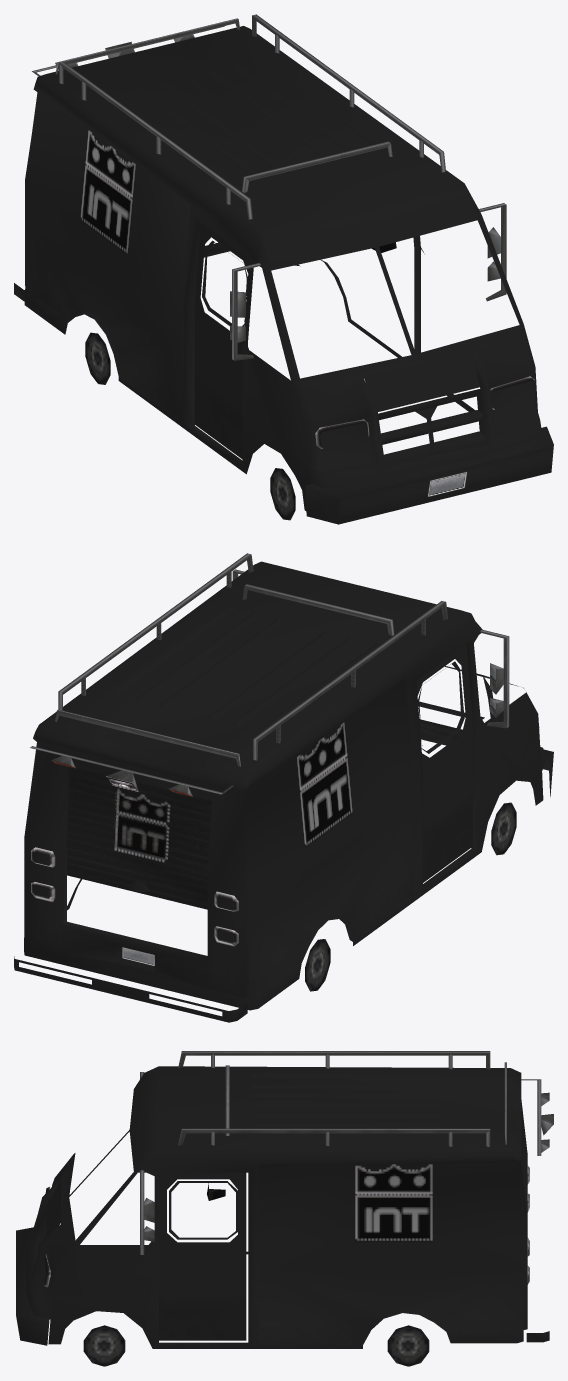
Rendered from car-HEVY_Car6.glb.
The picture shows the model from 3 angles, top to bottom: view 1: azimuth 30°, elevation 25°; view 2: azimuth 150°, elevation 25°; view 3: azimuth 270°, elevation 25°; orthographic projection. The views are drawn at different scales.
Visible parts, largest first — view 1: HEVY_Car6; view 2: HEVY_Car6; view 3: HEVY_Car6.
Boxes of the visible parts, <box> form: HEVY_Car6: <box>14,14,553,524</box>; HEVY_Car6: <box>14,553,553,1022</box>; HEVY_Car6: <box>16,1051,553,1366</box>.
Bounding box in the file's own units: 2.27 × 2.25 × 4.75.
Materials: 19 (19 with a texture image).
